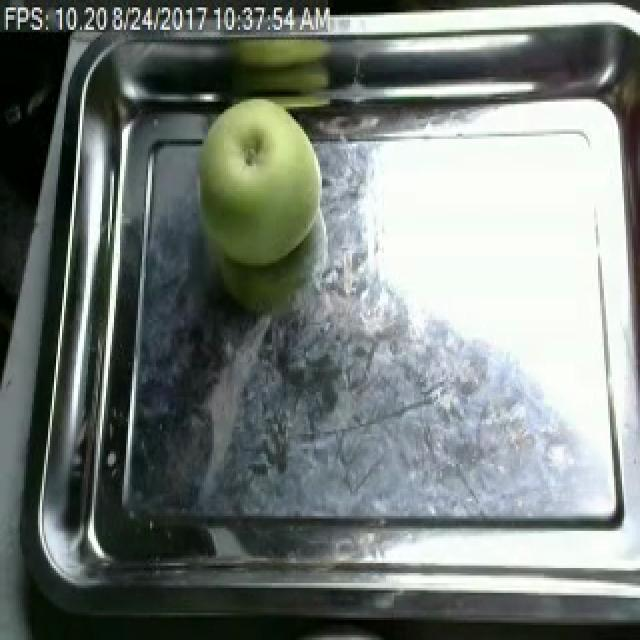50-_ripeness: (196, 92, 326, 265)
